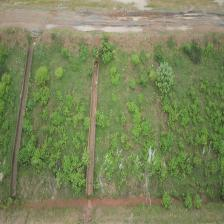slope drain: (9, 44, 34, 195), (86, 58, 99, 195)
